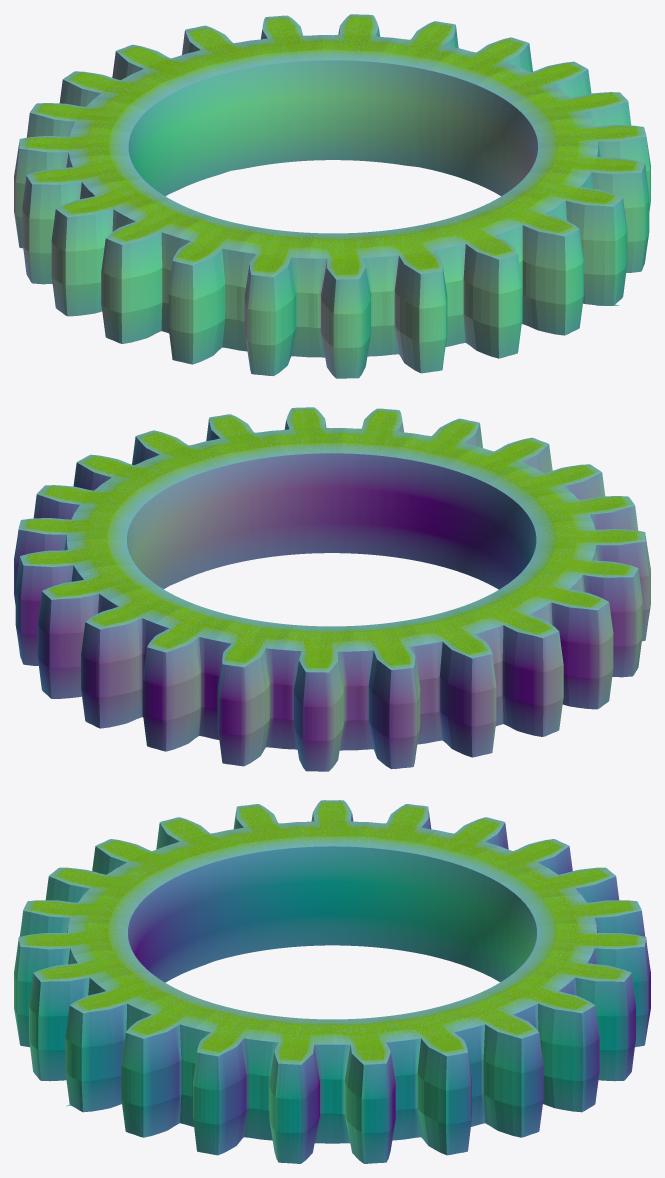
File: Gear.fbx
3 views of the same model, one above another, from view 1: azimuth 30°, elevation 25°; view 2: azimuth 150°, elevation 25°; view 3: azimuth 270°, elevation 25° (orthographic).
Parts seen in each view (by area): view 1: Gear; view 2: Gear; view 3: Gear.
Boxes of the visible parts, x1,y1,x2,y2 form: Gear: (14,14,650,378); Gear: (14,407,650,771); Gear: (14,800,650,1163).
Bounding box in the file's own units: 233 × 42.39 × 233.
